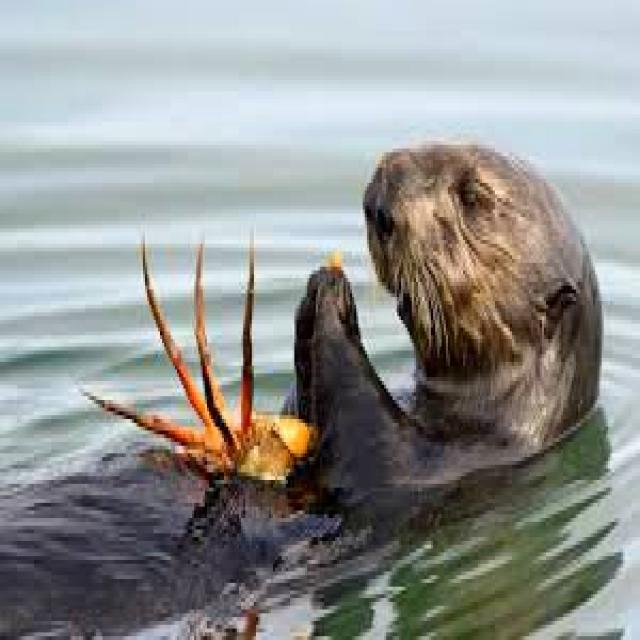otter: (294, 145, 602, 491)
